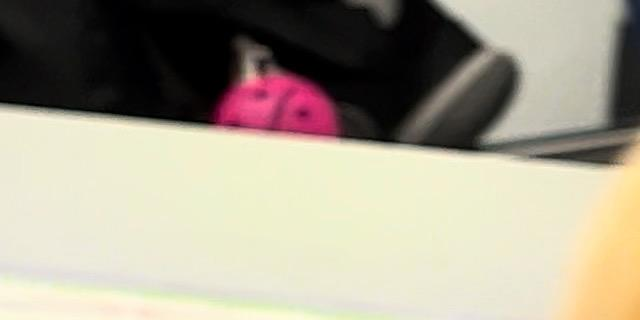burger: (428, 0, 640, 320)
